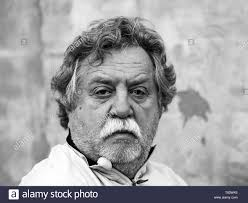white_male: (63, 45, 171, 162)
